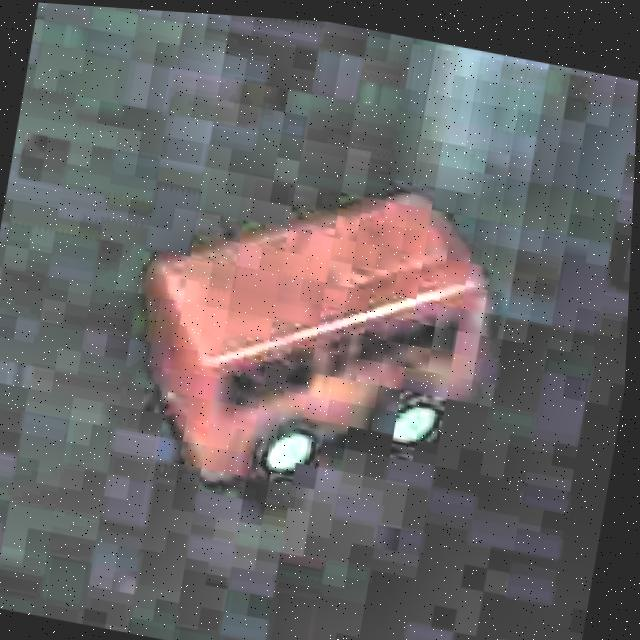bus: (100, 127, 521, 549)
